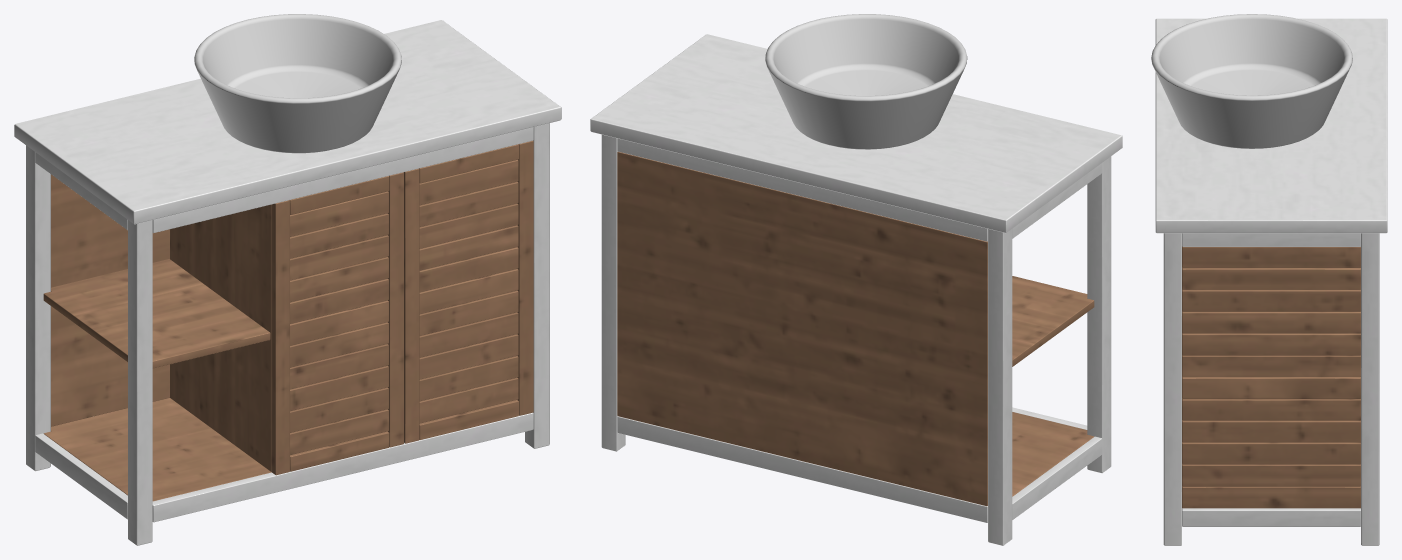
File: sink1.gltf
3 views of the same model, side by side, from view 1: azimuth 30°, elevation 25°; view 2: azimuth 150°, elevation 25°; view 3: azimuth 270°, elevation 25° (orthographic). The views are drawn at different scales.
Parts seen in each view (by area): view 1: SM_Storage02; view 2: SM_Storage02; view 3: SM_Storage02.
Boxes of the visible parts, <box> form: SM_Storage02: <box>14,14,561,545</box>; SM_Storage02: <box>590,14,1122,545</box>; SM_Storage02: <box>1151,14,1387,545</box>.
Bounding box in the file's own units: 1.17 × 1.06 × 0.5773.
Materials: 4 (2 with a texture image).
